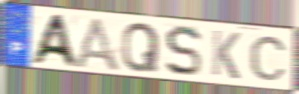A: (71, 16, 124, 74), (27, 13, 81, 69)
C: (248, 34, 288, 82)
K: (210, 28, 242, 82)
Q: (120, 21, 161, 74)
S: (163, 24, 203, 79)
